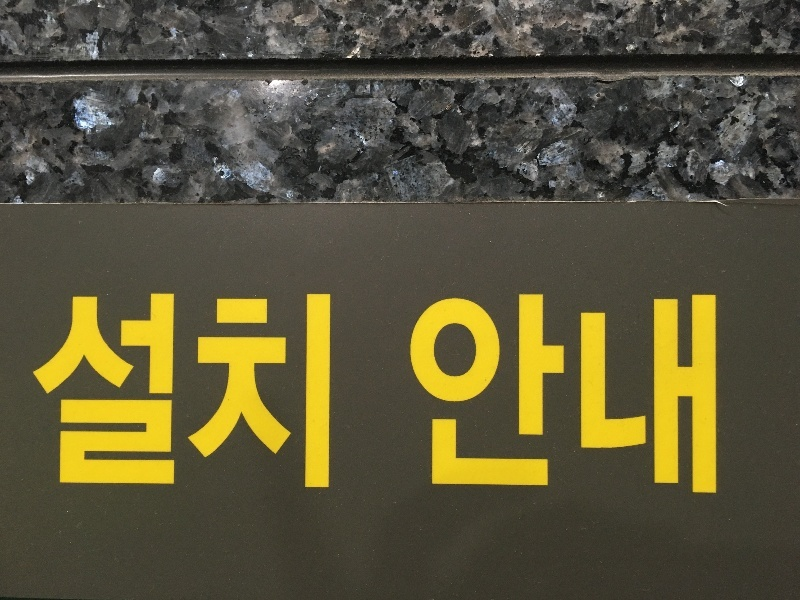text: (321, 284, 337, 501), (705, 289, 721, 502), (33, 284, 48, 501), (49, 284, 64, 501), (65, 284, 80, 501), (81, 284, 96, 501), (97, 284, 112, 501), (113, 284, 128, 501), (129, 284, 144, 501), (145, 284, 160, 501), (161, 284, 176, 501), (177, 284, 192, 501), (193, 284, 208, 501), (209, 284, 224, 501), (225, 284, 240, 501), (241, 284, 256, 501), (257, 284, 272, 501), (273, 284, 288, 501), (289, 284, 304, 501), (305, 284, 320, 501), (401, 289, 416, 502), (417, 289, 432, 502), (433, 289, 448, 502), (449, 289, 464, 502), (465, 289, 480, 502), (481, 289, 496, 502), (497, 289, 512, 502), (513, 289, 528, 502), (529, 289, 544, 502), (545, 289, 560, 502), (561, 289, 576, 502), (577, 289, 592, 502), (593, 289, 608, 502), (609, 289, 624, 502), (625, 289, 640, 502), (641, 289, 656, 502), (657, 289, 672, 502), (673, 289, 688, 502), (689, 289, 704, 502), (20, 284, 32, 501)
